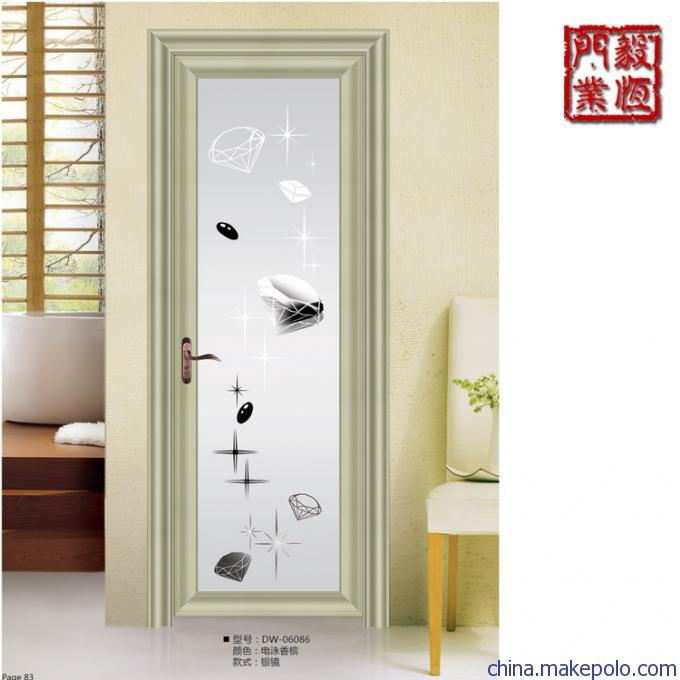door: (173, 51, 365, 614)
